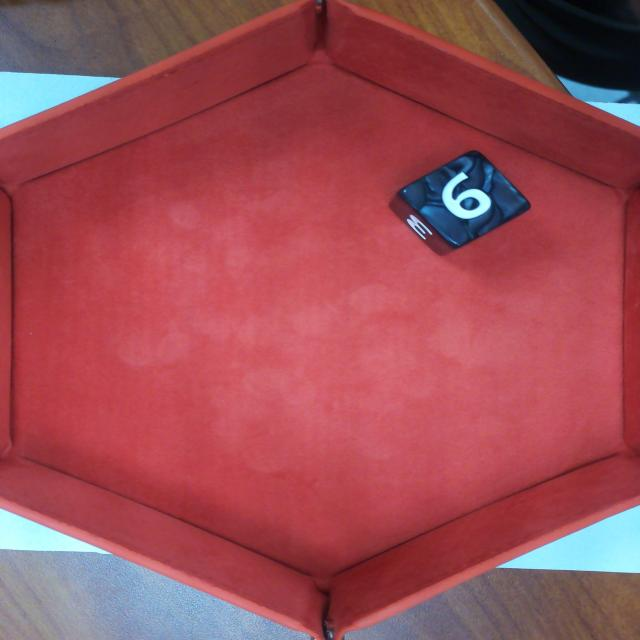dice: (394, 147, 540, 250)
